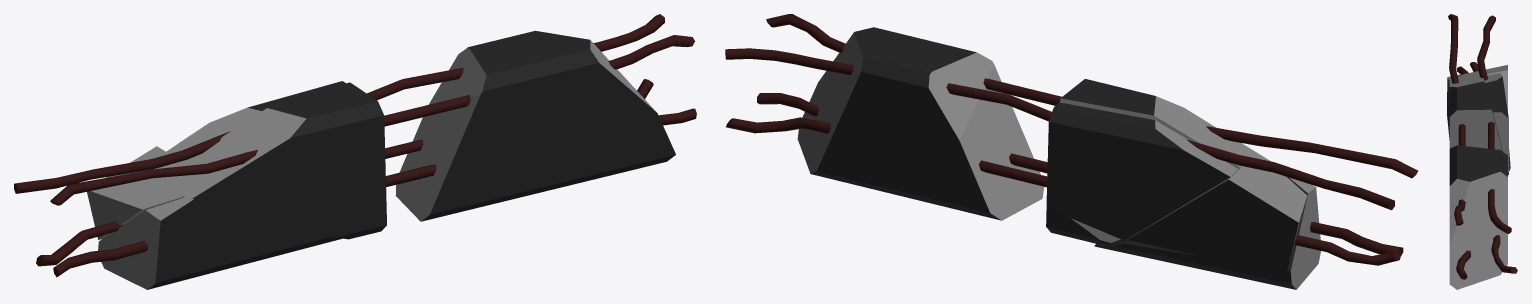
File: P_PoutreCassé2.FBX
The picture shows the model from 3 angles, left to right: view 1: azimuth 30°, elevation 25°; view 2: azimuth 150°, elevation 25°; view 3: azimuth 270°, elevation 25°; orthographic projection. The views are drawn at different scales.
Visible parts, largest first — view 1: Box009_Part_007; view 2: Box009_Part_007; view 3: Box009_Part_007.
Boxes of the visible parts, left/top/right/bottom form: Box009_Part_007: left=14, top=14, right=696, bottom=289; Box009_Part_007: left=725, top=14, right=1417, bottom=289; Box009_Part_007: left=1447, top=14, right=1517, bottom=289.
Bounding box in the file's own units: 316 × 44.45 × 60.28.
